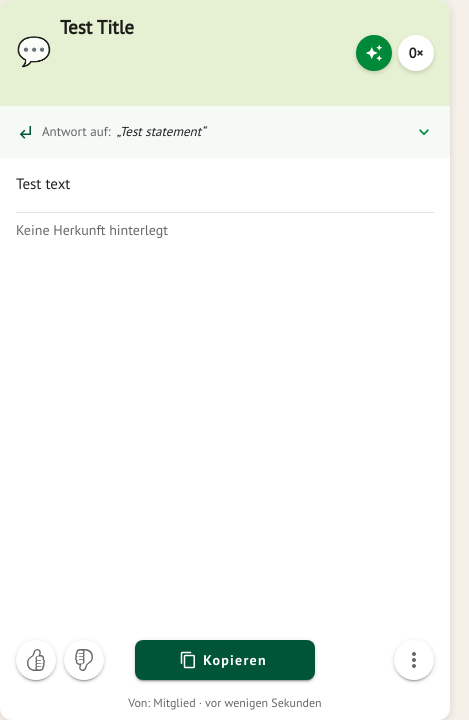
BeitragskarteComponent › Statement › zeigt die Aussage zugeklappt und klappt sie im Fluss auf
Expected: the text with class "statement-vorschau" shows "Test statement", [117,124,206,140]
What coordinates should you click on to do the following:
click the button with class "statement-zeile"
I would click on:
 (76, 132)
Its box is [0,106,450,158].
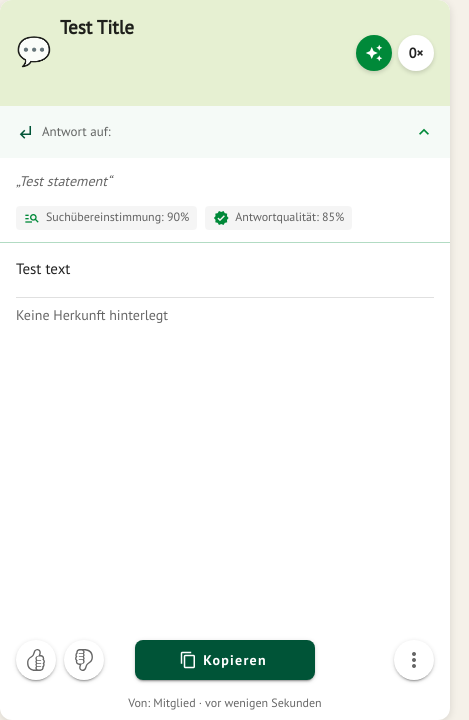
Expected: the element with class "statement-details" shows "Suchübereinstimmung: 90%", [46,210,189,224]
Expected: the element with class "statement-details" shows "Antwortqualität: 85%", [235,210,344,224]
Expected: the button with class "statement-zeile" is expanded, [0,106,450,158]
